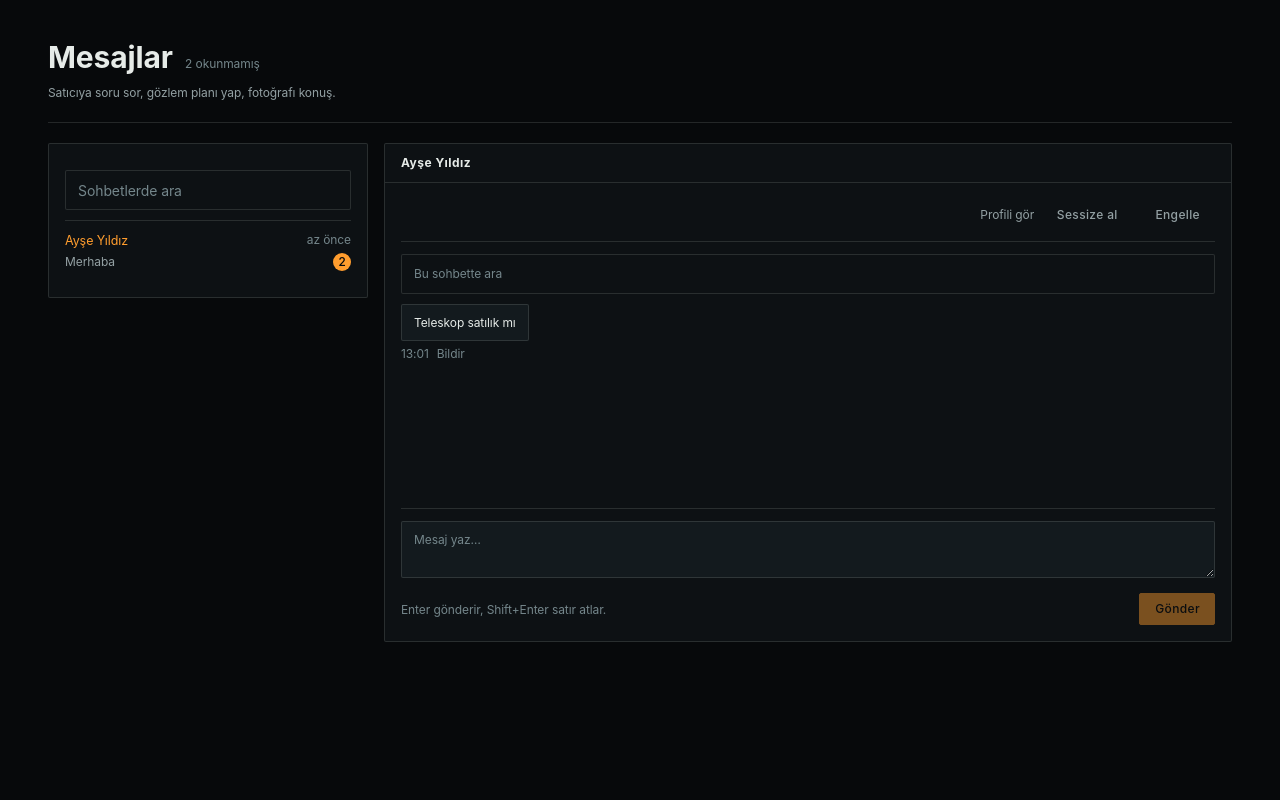
Scenario: sohbet içi arama › sonuç yokken aramanın kapsamını yazar
Type "kamera" into the search field labelled "Bu sohbette ara" at (808, 274), box [401,254,1215,294]
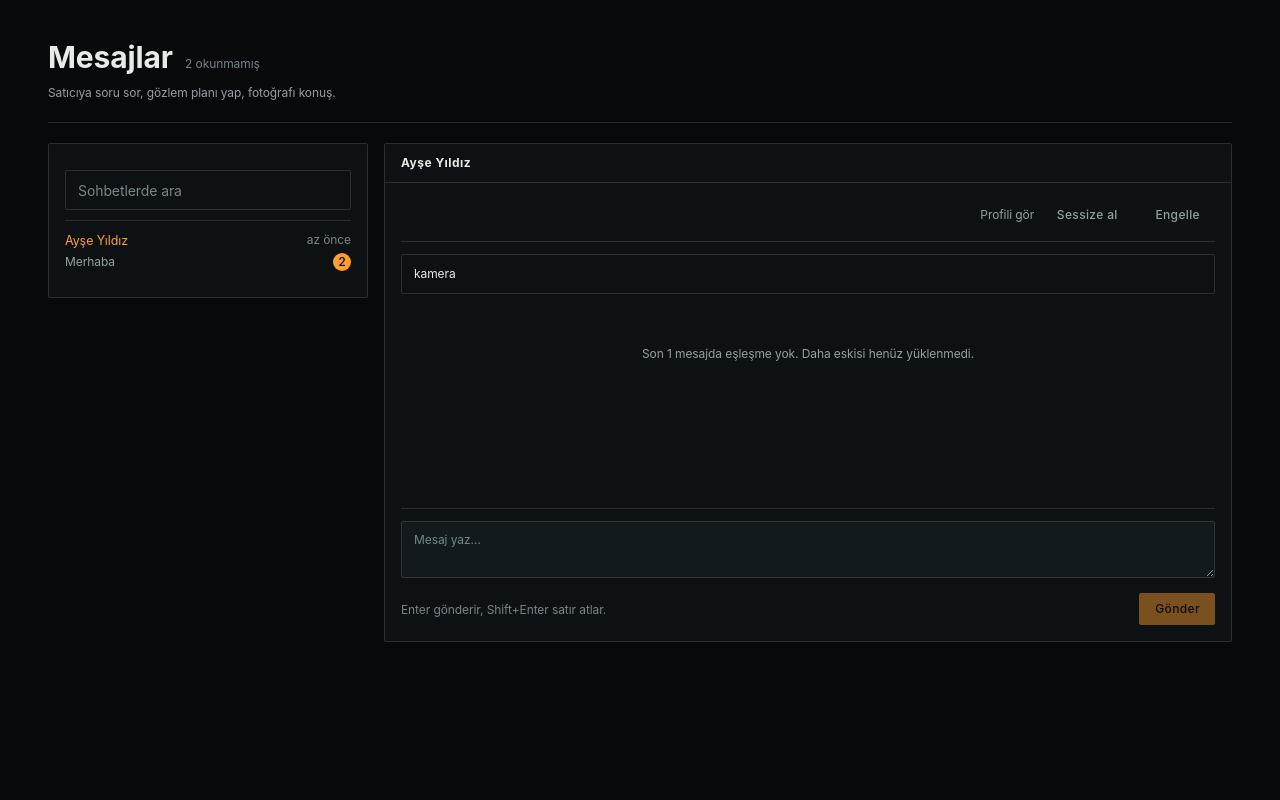
Expected: the text "Son 1 mesajda eşleşme yok. Daha eskisi henüz yüklenmedi." is shown, [642,346,974,361]
